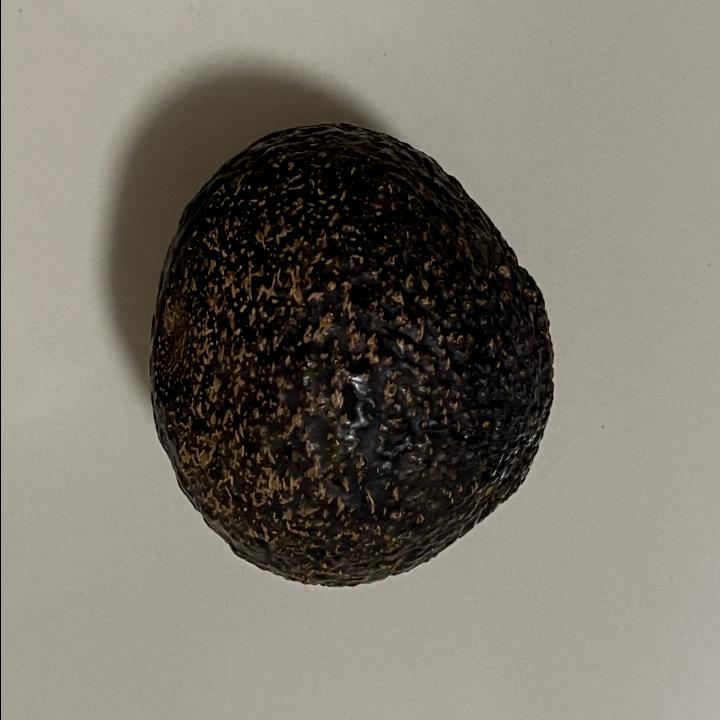Level2: (142, 114, 563, 598)
